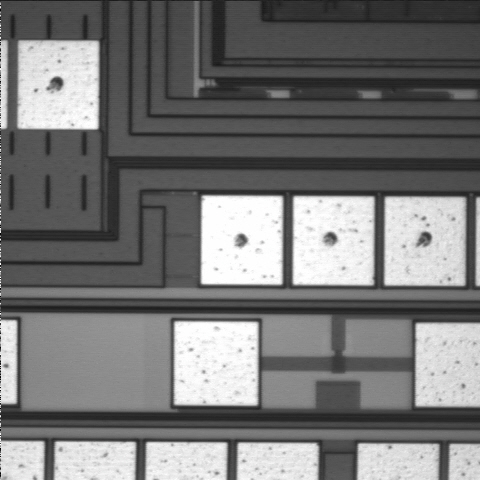pad: (201, 196, 283, 285), (293, 196, 374, 285), (384, 197, 465, 286), (18, 41, 99, 129), (174, 321, 258, 405)
